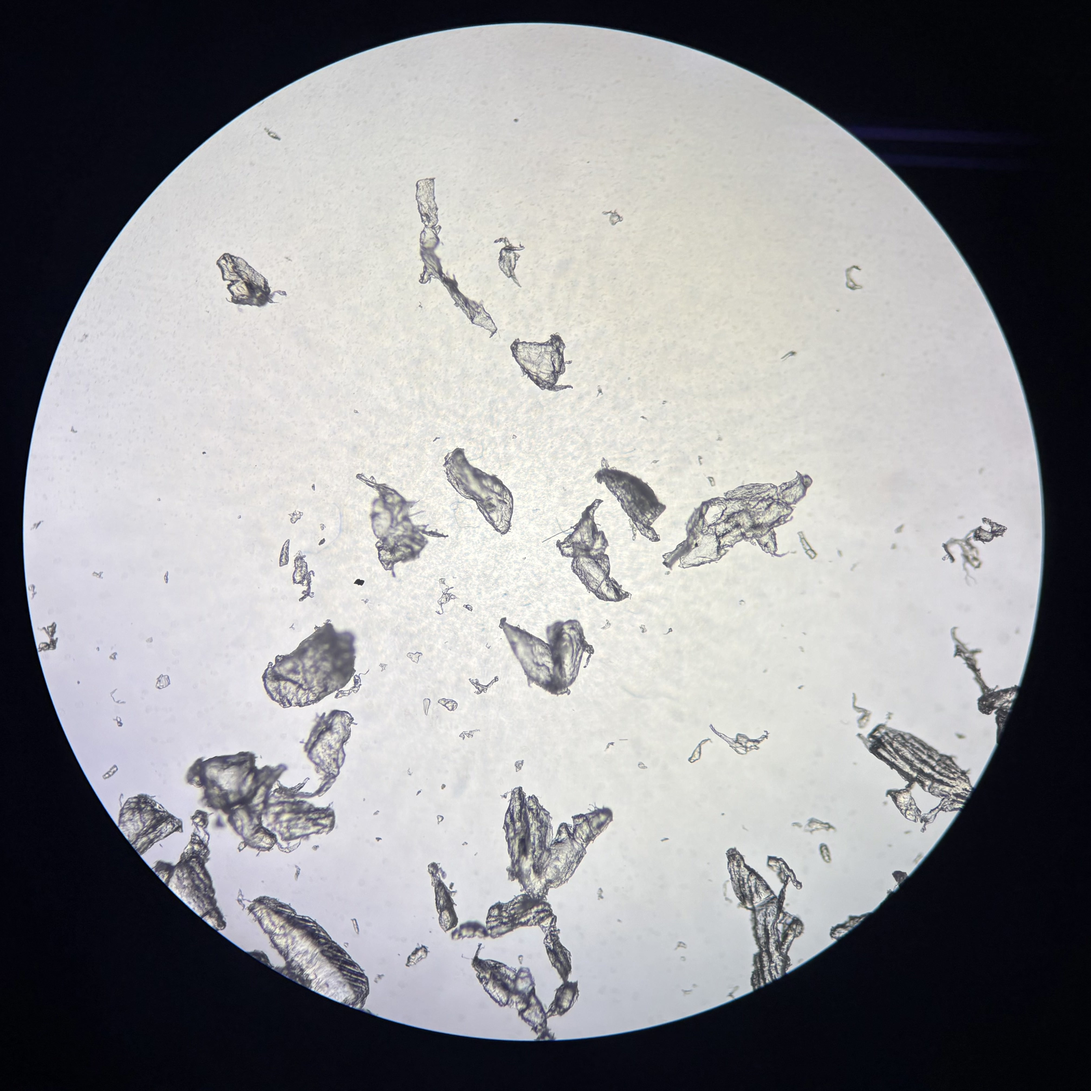microplastic: (450, 787, 613, 1019), (236, 888, 369, 1015), (184, 750, 336, 859), (662, 470, 813, 576), (855, 712, 974, 833), (415, 178, 498, 338), (723, 847, 805, 991), (356, 473, 449, 578), (261, 619, 370, 708), (151, 810, 226, 934), (542, 499, 632, 602), (462, 943, 556, 1041), (950, 626, 1019, 745), (498, 617, 594, 697), (592, 457, 667, 543), (443, 448, 514, 537), (299, 709, 358, 800), (941, 517, 1007, 588), (115, 793, 184, 859), (216, 253, 288, 307), (510, 332, 574, 392), (427, 862, 459, 934), (709, 724, 771, 755), (493, 237, 525, 288), (829, 911, 872, 941), (292, 550, 314, 602), (435, 578, 460, 615), (790, 817, 838, 835), (851, 692, 872, 729), (36, 621, 59, 652), (687, 738, 712, 764), (405, 943, 430, 968), (797, 531, 817, 560), (469, 676, 498, 694), (845, 265, 863, 290), (602, 209, 623, 226), (236, 888, 251, 911), (279, 539, 290, 567), (891, 870, 908, 887), (438, 698, 458, 712), (674, 941, 688, 961), (155, 673, 171, 690), (110, 688, 126, 704), (102, 764, 118, 780), (819, 842, 831, 863), (459, 729, 480, 740), (264, 126, 280, 140), (288, 510, 303, 524), (681, 983, 697, 996), (406, 652, 423, 664), (726, 986, 740, 1000), (351, 918, 361, 934), (30, 520, 44, 531), (423, 698, 431, 716), (28, 584, 37, 599), (514, 760, 525, 772), (113, 715, 123, 728), (294, 864, 301, 882), (597, 887, 606, 901), (374, 973, 385, 984), (92, 570, 105, 579), (600, 619, 611, 629), (605, 742, 615, 752), (596, 385, 604, 397), (707, 476, 715, 487), (379, 663, 388, 672), (663, 627, 673, 635), (463, 604, 473, 612), (638, 761, 648, 769), (108, 652, 118, 660), (354, 579, 365, 586), (639, 624, 647, 633), (437, 815, 444, 825), (164, 571, 169, 584), (318, 538, 326, 546), (289, 623, 296, 631), (698, 455, 703, 466), (407, 767, 413, 776), (361, 598, 368, 605), (416, 788, 422, 796), (311, 845, 319, 851), (651, 459, 660, 464), (320, 524, 326, 531), (440, 784, 446, 790), (375, 837, 382, 842), (433, 437, 440, 442), (462, 841, 469, 846), (374, 810, 380, 815), (343, 942, 349, 947), (512, 434, 517, 440), (312, 483, 315, 491), (353, 409, 359, 413), (96, 647, 100, 651), (238, 515, 241, 519)
